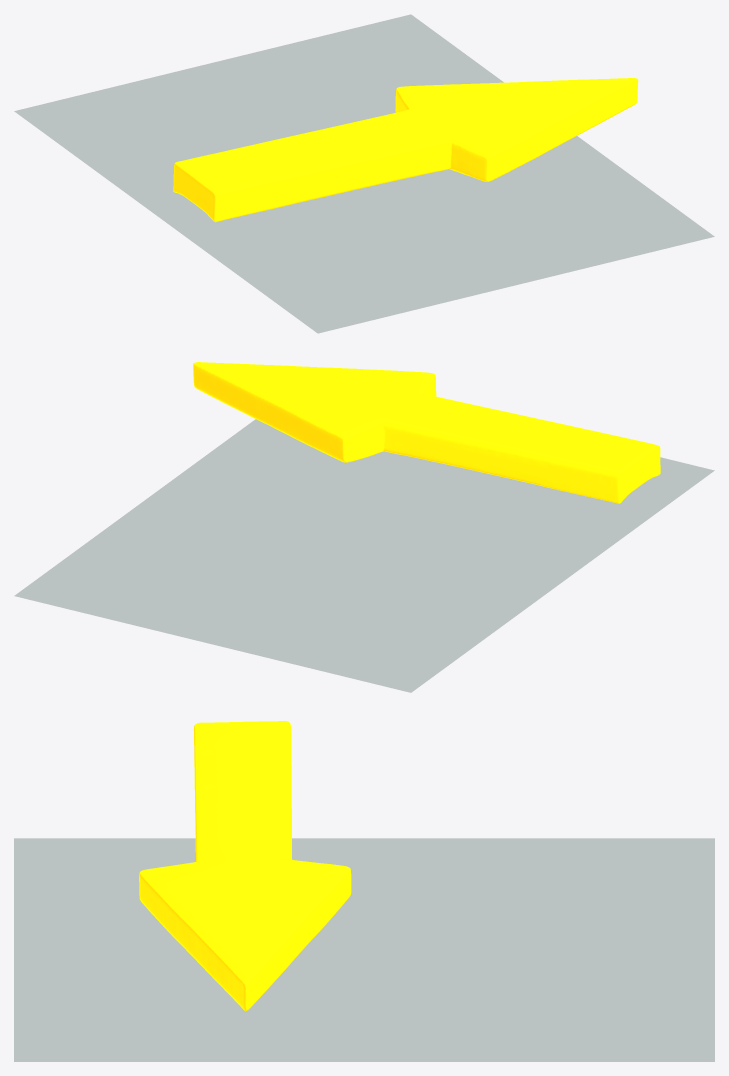
The model's file is modelwall.glb.
3 views of the same model, one above another, from view 1: azimuth 30°, elevation 25°; view 2: azimuth 150°, elevation 25°; view 3: azimuth 270°, elevation 25° (orthographic). The views are drawn at different scales.
Parts seen in each view (by area): view 1: Plane, Mesh_0.001; view 2: Plane, Mesh_0.001; view 3: Plane, Mesh_0.001.
Boxes of the visible parts, x1,y1,x2,y2 form: Plane: (14,14,714,333); Mesh_0.001: (173,78,638,222); Plane: (14,419,714,692); Mesh_0.001: (193,362,660,503); Plane: (14,838,714,1061); Mesh_0.001: (139,721,351,1011).
Size of the model in its own units: 2 by 0.3886 by 2.36.
